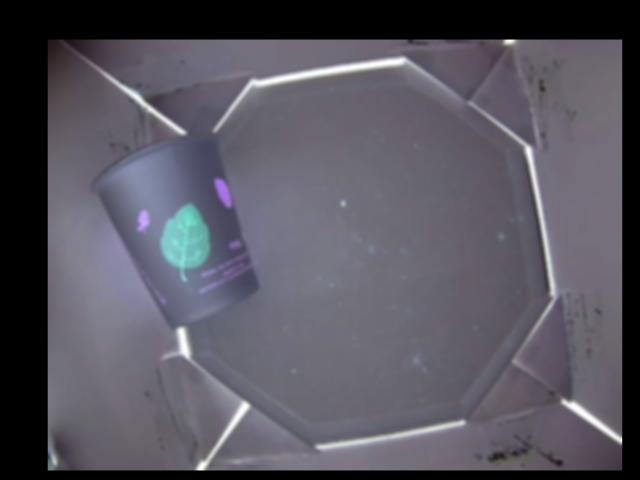Cup: (89, 132, 258, 329)
